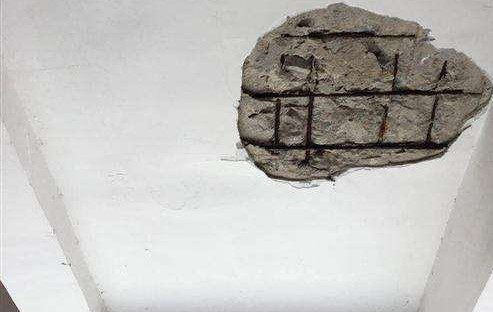Exposed reinforcement: (238, 134, 452, 151), (240, 85, 465, 101), (377, 52, 399, 140), (425, 59, 448, 142), (280, 30, 416, 40), (299, 92, 315, 167), (273, 97, 282, 144)
Spalling: (236, 1, 493, 183)
